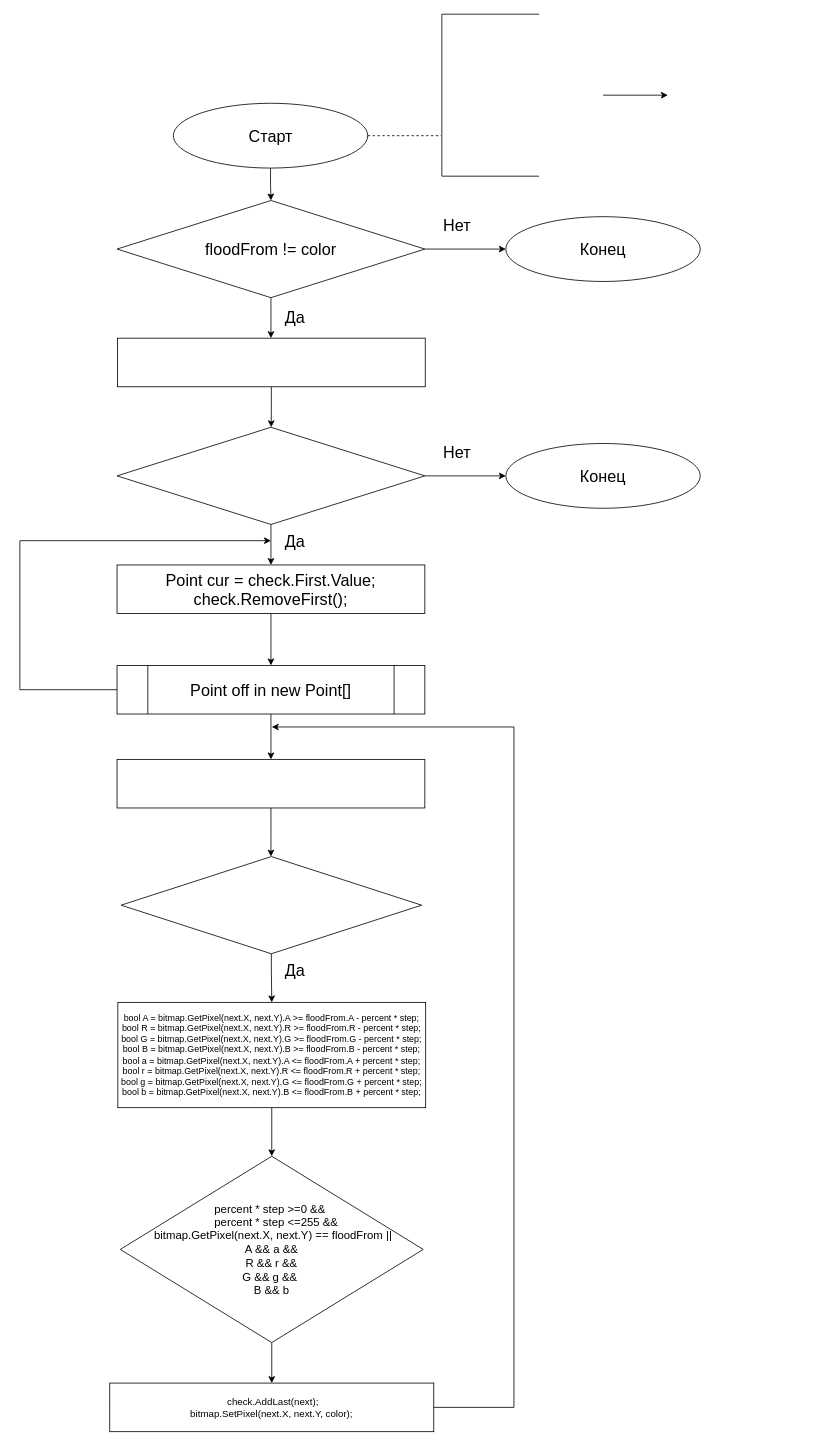
Some shapes in this 836 by 1446 pixel diagram are drawn without their labels. Each missing label, with the centre of its shape:
"check.AddLast(new Point(x, y))" belongs at [271,362].
"check.Count < 5000" belongs at [270,475].
"next.X >= 0 && next.Y >= 0 && next.X < bitmap.Width && next.Y < bitmap.Height" belongs at [271,905].
"Point next = new Point(cur.X + off.X, cur.Y + off.Y);" belongs at [270,783].
